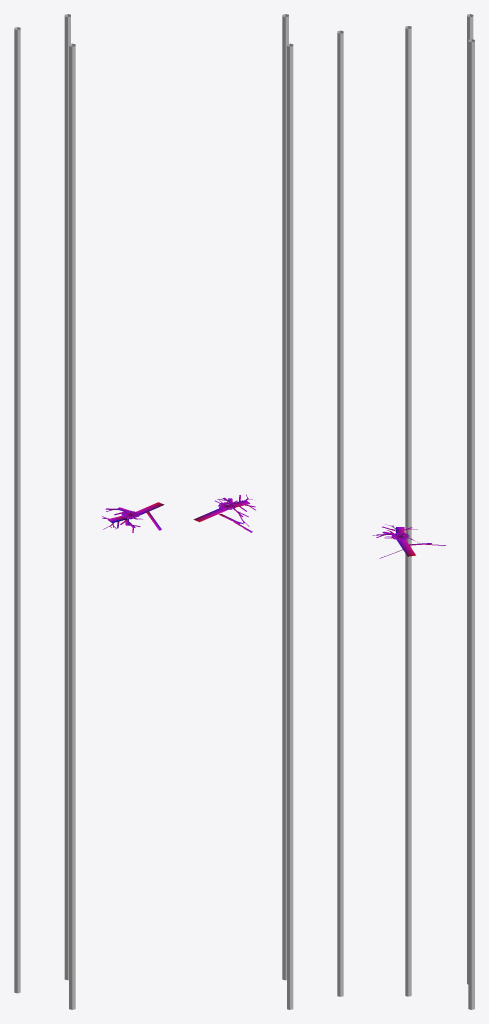
File: setForeground_export.fbx
The picture shows the model from 3 angles, left to right: view 1: azimuth 30°, elevation 25°; view 2: azimuth 210°, elevation 25°; view 3: azimuth 270°, elevation 25°; orthographic projection.
Parts seen in each view (by area): view 1: column1, column, column2, branchPlank54; view 2: column1, column2, column, branchPlank54; view 3: column2, column, column1, branchPlank54.
Part boxes in pixels (<box>): column1: <box>14,27,20,993</box>; column: <box>69,43,75,1009</box>; column2: <box>64,14,70,980</box>; branchPlank54: <box>102,502,164,532</box>; column1: <box>337,30,343,996</box>; column2: <box>287,43,293,1009</box>; column: <box>282,14,288,980</box>; branchPlank54: <box>193,494,255,532</box>; column2: <box>468,39,474,1009</box>; column: <box>405,26,411,996</box>; column1: <box>467,14,473,984</box>; branchPlank54: <box>372,524,445,558</box>.
Bounding box in the file's own units: 19.47 × 150 × 14.44.
